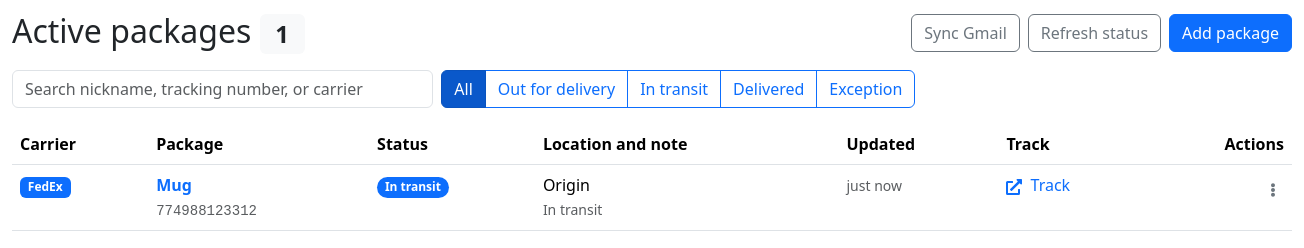
it: DashboardPage › empty-filter copy (F-dashboard-1) › shows search-only copy when search has a value and filter is All
Expected: the text "Mug" is shown, [156,174,192,196]
Type "zzzzz" into the search field with placeholder "Search nickname, tracking number, or carrier" at (223, 89), box [12,70,433,108]
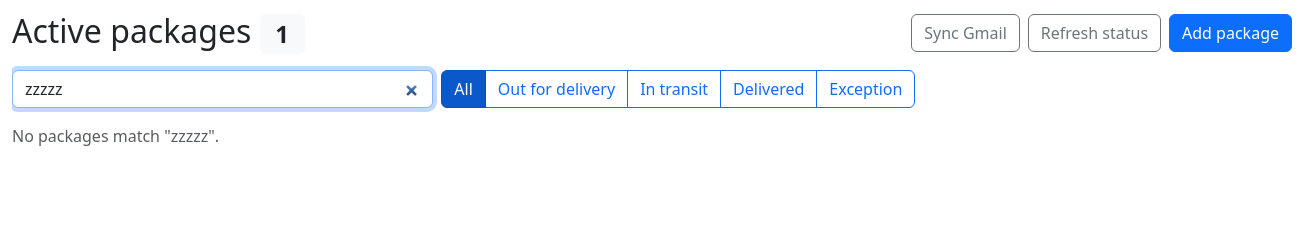
Expected: the text "No packages match \"zzzzz\"." is shown, [12,125,219,147]
